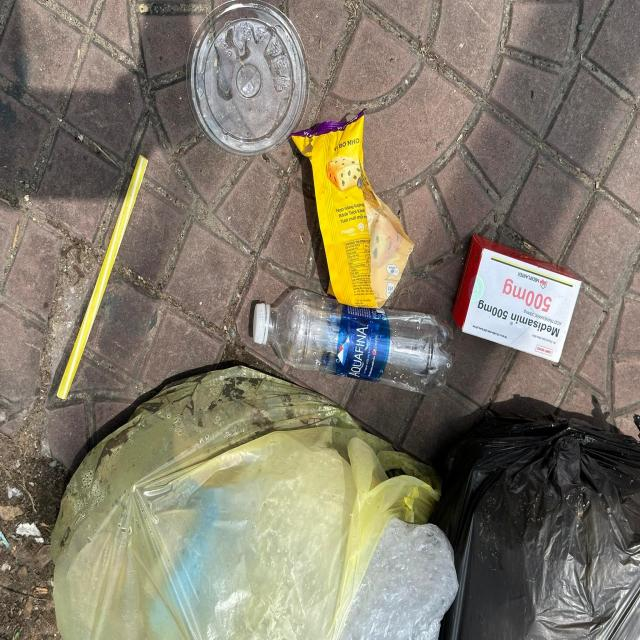bottle: (253, 288, 453, 395)
cardboard box: (453, 234, 582, 364)
drinking straw: (56, 155, 148, 401)
lid: (185, 0, 310, 156)
snack package: (290, 108, 415, 310)
trash bag: (49, 365, 442, 640), (443, 413, 640, 640)
